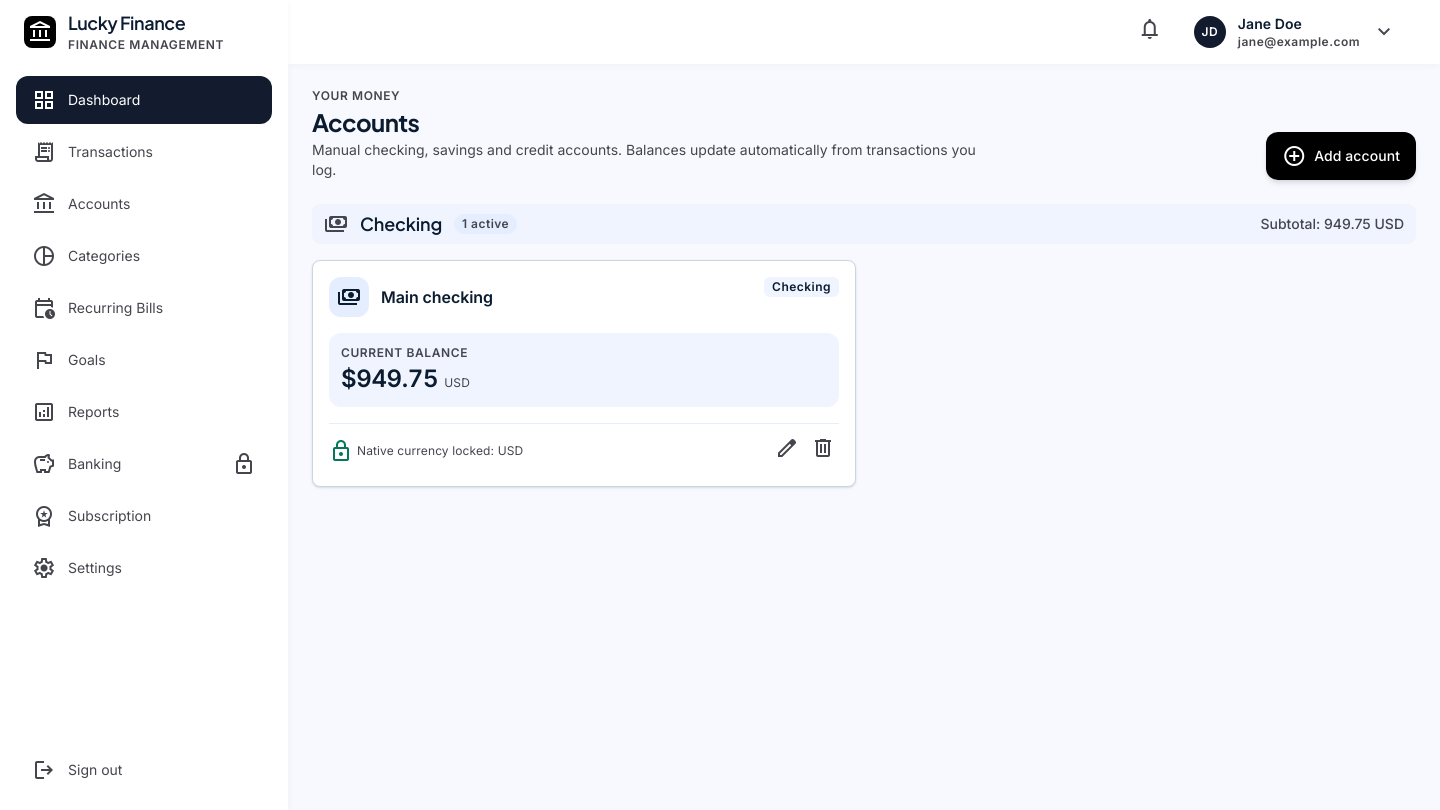
Test: AccountsPage › locks native currency on edit and never sends it in the update payload
Expected: the heading "Main checking" is shown, top-left (381, 285), bottom-right (493, 309)
Click the button titled "Edit" at (787, 451), box top-left (771, 432), bottom-right (803, 470)
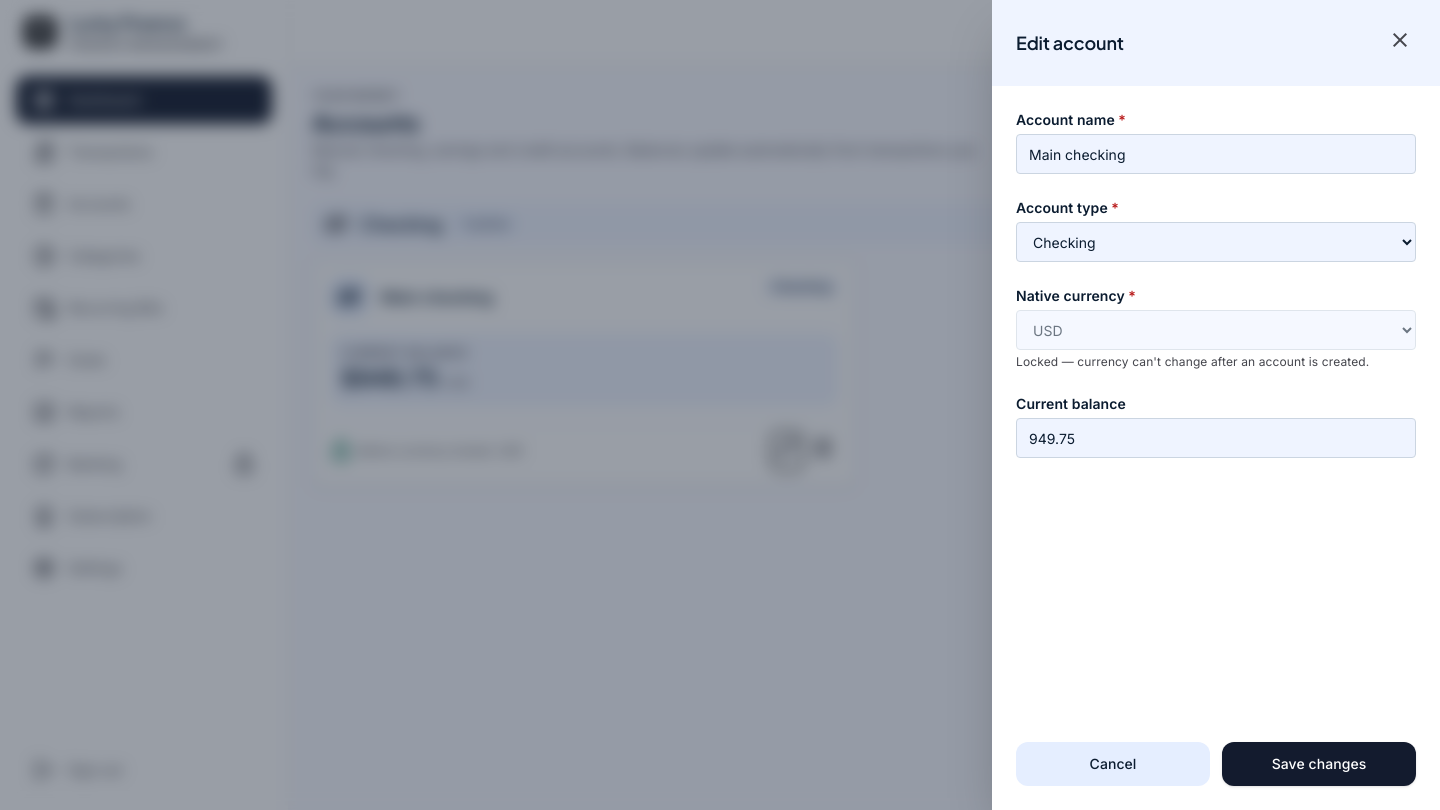
Now the dropdown labelled "Native currency *" is disabled, box top-left (1016, 310), bottom-right (1416, 350)
Now the text "Locked — currency can't change after an account is created." is shown, box top-left (1016, 354), bottom-right (1416, 370)
Type "Main checking (renamed)" into the field labelled "Account name *" at (1216, 154), box top-left (1016, 134), bottom-right (1416, 174)
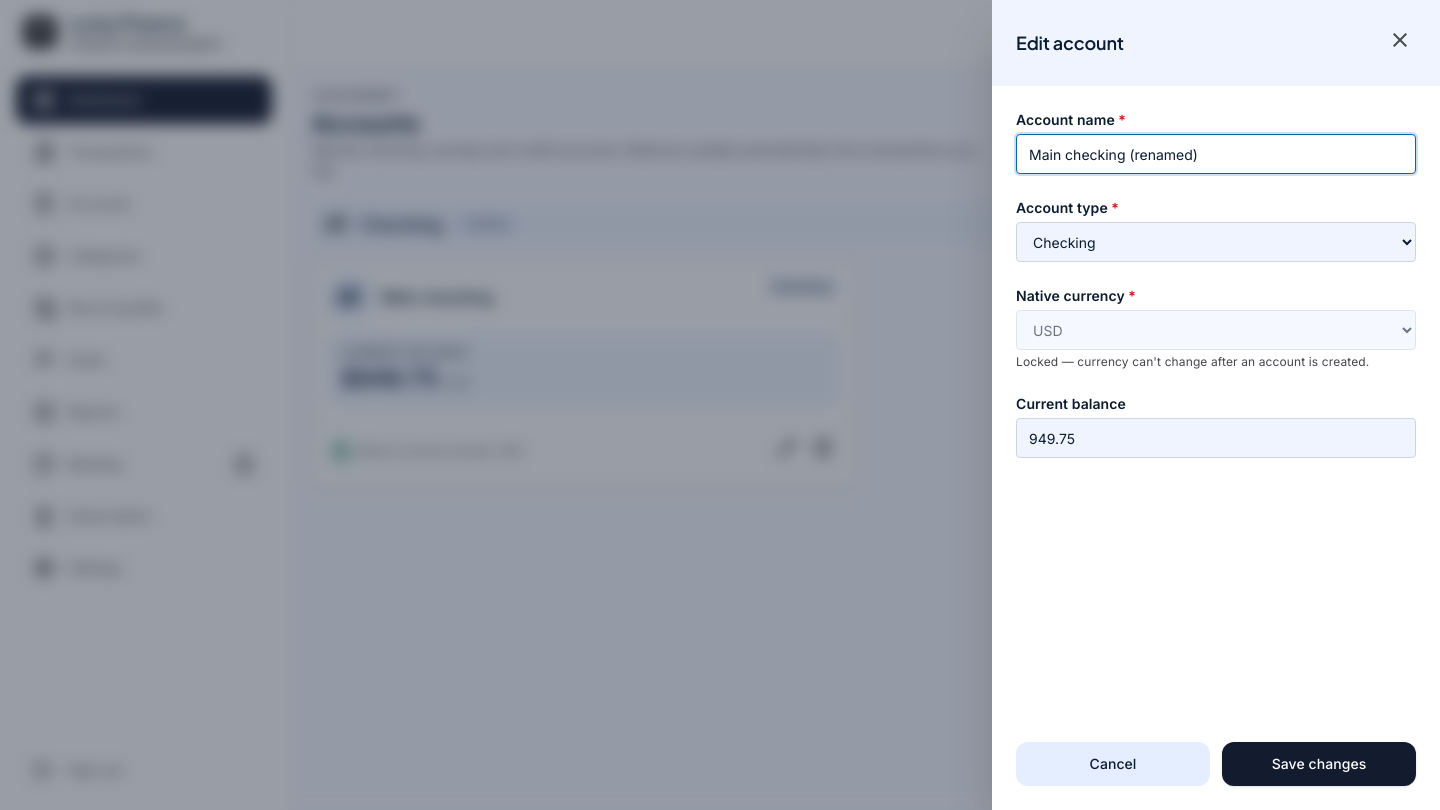
Click the button "Save changes" at (1319, 764), box top-left (1222, 742), bottom-right (1416, 786)
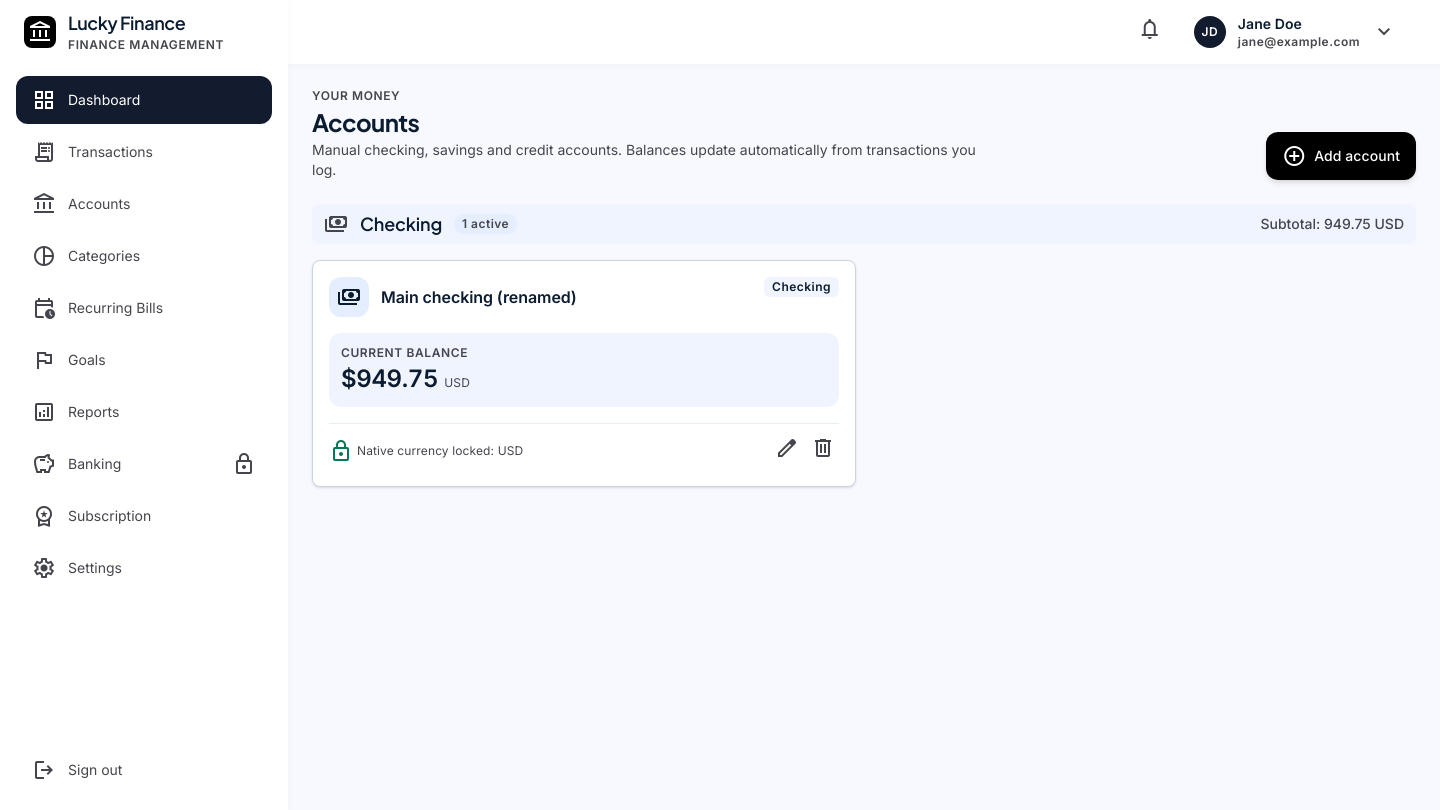
Now the heading "Main checking (renamed)" is shown, box top-left (381, 285), bottom-right (577, 309)
